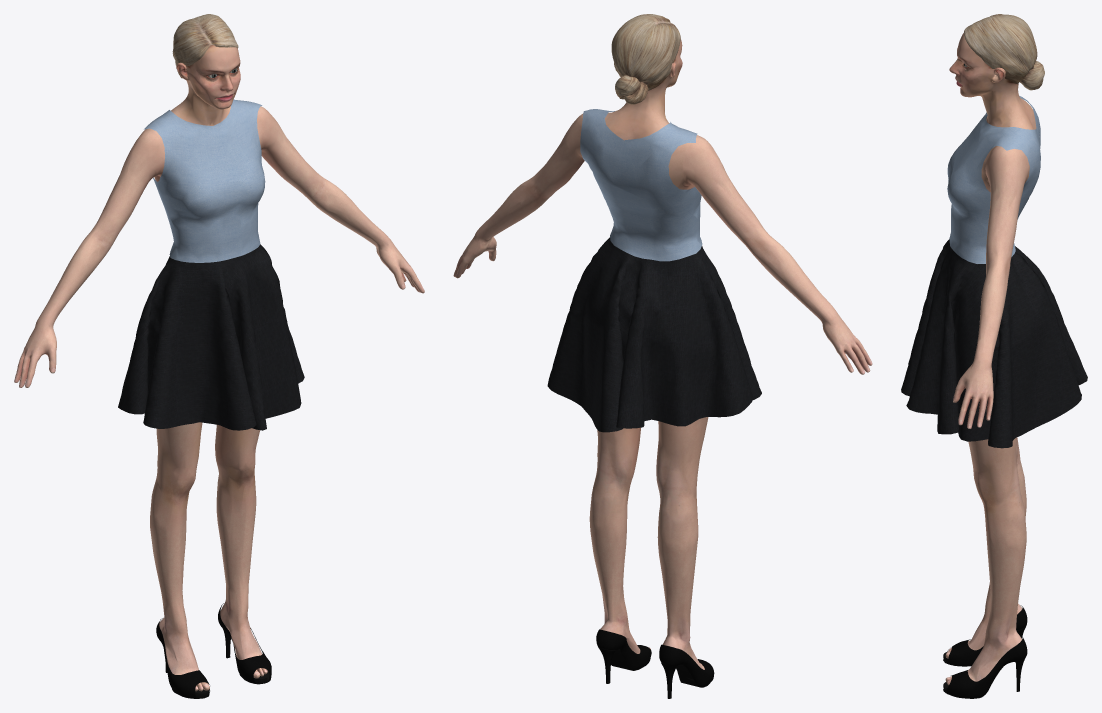
File: anna.glb
3 views of the same model, side by side, from view 1: azimuth 30°, elevation 25°; view 2: azimuth 150°, elevation 25°; view 3: azimuth 270°, elevation 25° (orthographic). The views are drawn at different scales.
Visible parts, largest first — view 1: dress2, body_3, dress2_1, body_2, body, hair_Shape, body_1, shoes_r_Shape_1, shoes_l_Shape_1; view 2: dress2, body_3, body_2, dress2_1, hair_Shape, body_1, shoes_r_Shape_1, shoes_l_Shape_1; view 3: dress2, body_3, body_2, dress2_1, hair_Shape, body_1, body, shoes_l_Shape_1, shoes_r_Shape_1.
Part boxes in pixels (x1,y1,x2,y2): dress2: [118, 244, 304, 430]; body_3: [150, 422, 267, 691]; dress2_1: [144, 99, 265, 262]; body_2: [14, 106, 424, 387]; body: [176, 45, 240, 109]; hair_Shape: [172, 14, 238, 78]; body_1: [148, 80, 261, 181]; shoes_r_Shape_1: [156, 618, 209, 698]; shoes_l_Shape_1: [218, 603, 271, 684]; dress2: [547, 237, 761, 432]; body_3: [589, 417, 708, 669]; body_2: [453, 113, 872, 374]; dress2_1: [580, 109, 702, 261]; hair_Shape: [611, 14, 680, 104]; body_1: [604, 77, 698, 189]; shoes_r_Shape_1: [659, 644, 714, 687]; shoes_l_Shape_1: [596, 629, 651, 670]; dress2: [901, 239, 1087, 448]; body_3: [945, 437, 1026, 684]; body_2: [953, 146, 1029, 428]; dress2_1: [947, 96, 1040, 263]; hair_Shape: [964, 14, 1044, 90]; body_1: [978, 81, 1036, 192]; body: [949, 33, 1010, 97]; shoes_l_Shape_1: [943, 636, 1027, 698]; shoes_r_Shape_1: [943, 605, 1027, 666].
Size of the model in its own units: 1.19 by 1.84 by 0.4718.
16 materials, 16 textured.
